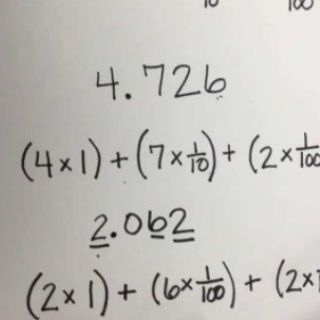.: (122, 87, 132, 102), (109, 231, 118, 239)
0: (122, 211, 143, 236)
1: (76, 144, 89, 175), (85, 279, 98, 310), (299, 129, 310, 146), (202, 263, 212, 280)
2: (171, 61, 199, 101), (167, 207, 196, 236), (39, 280, 60, 313), (88, 213, 108, 242), (283, 266, 302, 294), (257, 143, 277, 169)
4: (93, 62, 120, 102), (32, 147, 55, 179)
6: (203, 61, 229, 95), (146, 207, 167, 234), (163, 274, 181, 300)
7: (140, 58, 164, 98), (147, 140, 166, 171)
